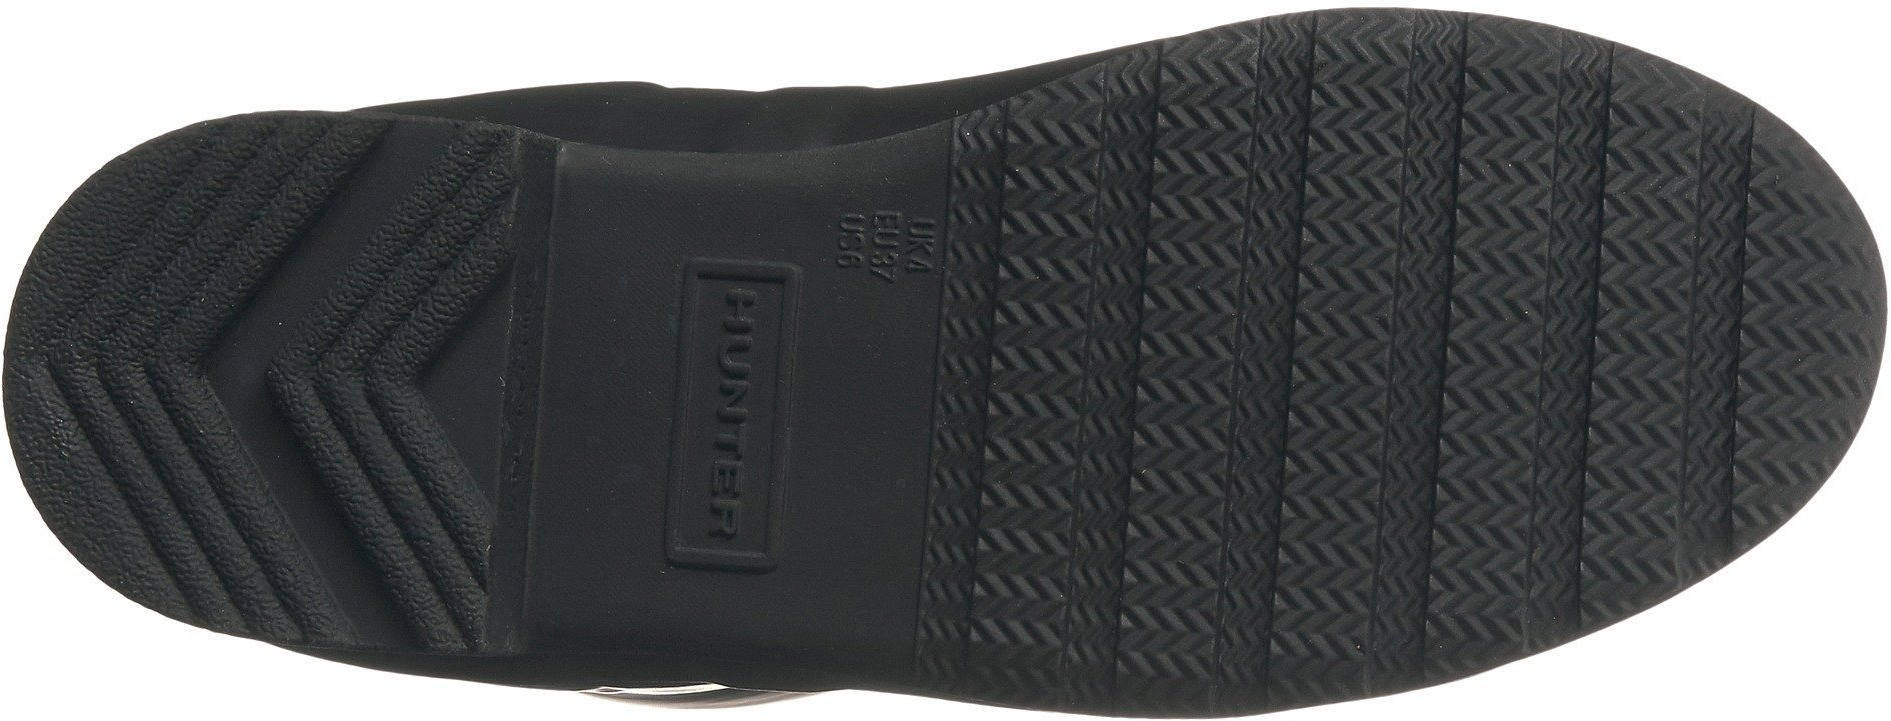chevron: (65, 229, 390, 544), (1516, 139, 1822, 453), (1198, 59, 1507, 356), (1214, 368, 1520, 656), (948, 344, 1194, 552), (967, 119, 1177, 334), (966, 557, 1146, 707)
other: (785, 385, 925, 531), (569, 163, 684, 282)
quad: (637, 247, 814, 597)
text: (637, 247, 814, 597), (826, 181, 941, 293), (693, 272, 796, 371), (693, 385, 773, 470), (687, 483, 762, 551)
